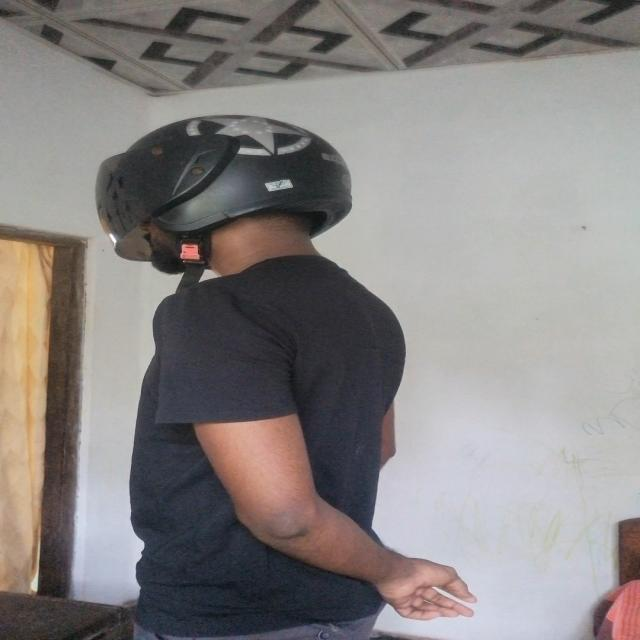Helmet_Wearer: (81, 98, 395, 294)
Person: (85, 101, 475, 640)
